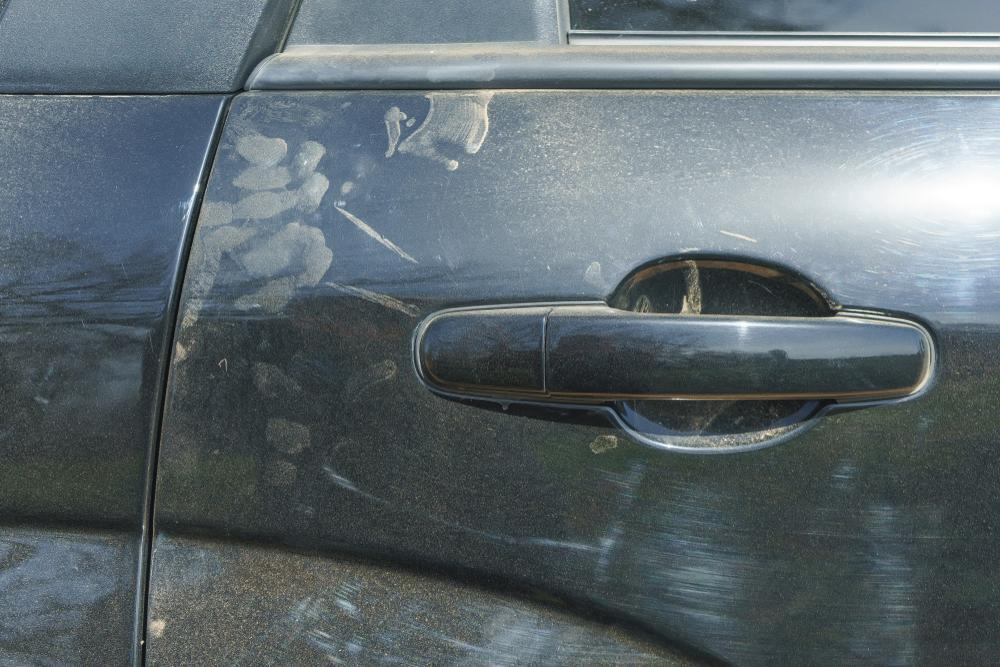scratch: (294, 462, 1000, 667)
